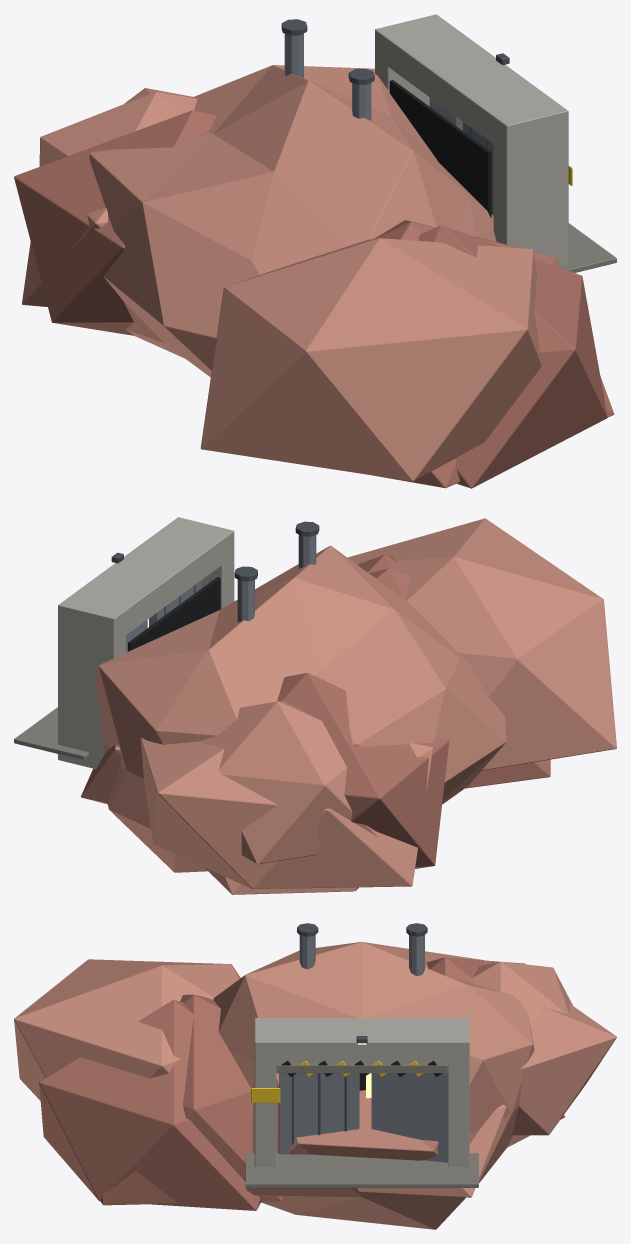
Rendered from bergrum.glb.
3 renders of one model, top to bottom at view 1: azimuth 30°, elevation 25°; view 2: azimuth 150°, elevation 25°; view 3: azimuth 270°, elevation 25°, orthographic. The views are drawn at different scales.
Visible parts, largest first — view 1: bergrum; view 2: bergrum; view 3: bergrum.
Boxes of the visible parts, x1=… form: bergrum: x1=14, y1=14, x2=616, y2=488; bergrum: x1=14, y1=517, x2=616, y2=894; bergrum: x1=14, y1=923, x2=616, y2=1229.
Bounding box in the file's own units: 24.09 × 16.83 × 33.09.
